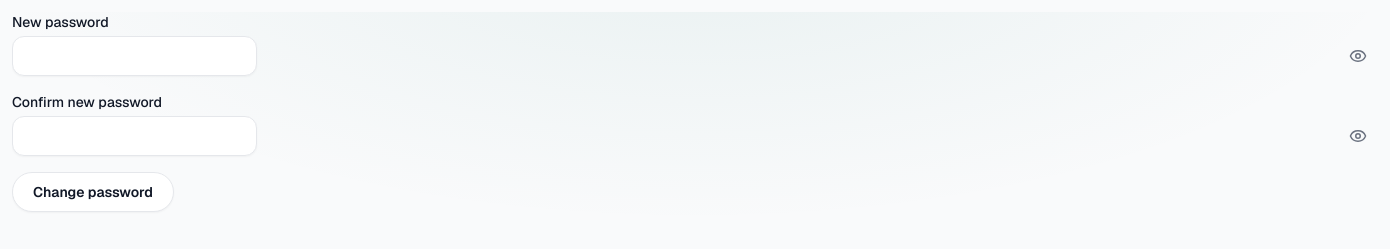
Scenario: ChangePasswordForm › rejects a password under 8 characters
Type "short" into the password field labelled "New password" at (134, 56), box [12,36,257,76]
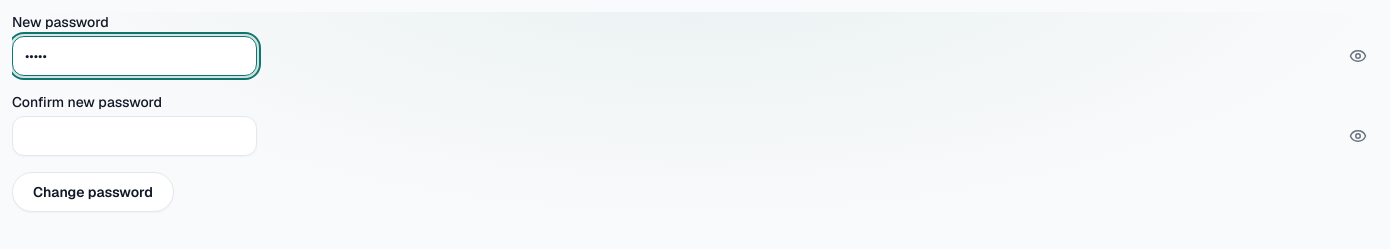
Press Tab
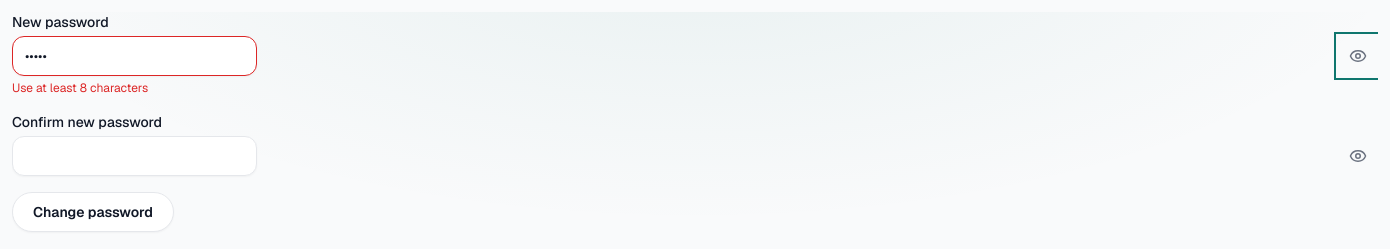
Expected: the text "Use at least 8 characters" is shown, [12,80,148,96]
